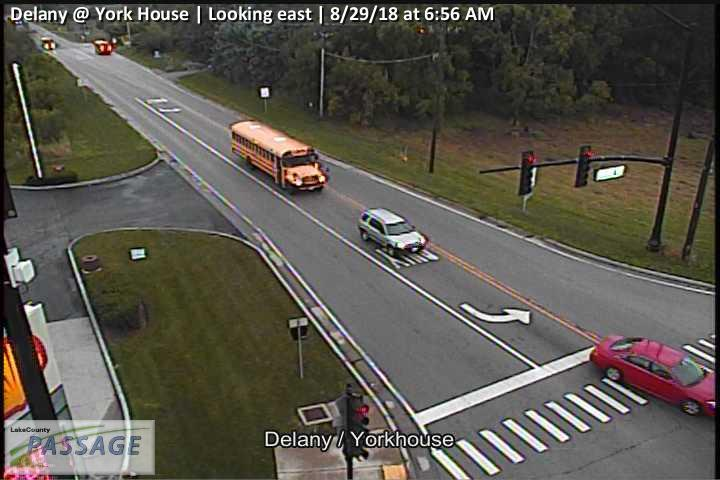Bus: (231, 118, 328, 196), (93, 39, 111, 54)
SUV: (358, 208, 427, 256), (41, 37, 55, 49)
Sedan: (590, 334, 718, 420)
